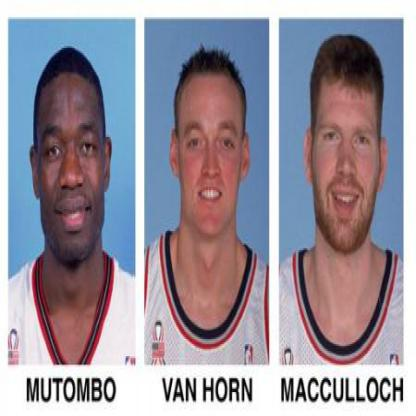face: (37, 51, 108, 265), (313, 40, 382, 254), (179, 55, 244, 238)
